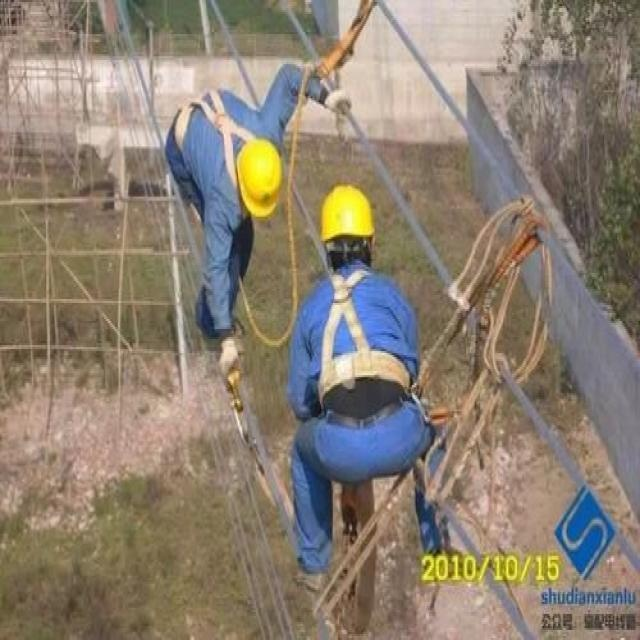Arnes_seguridad: (314, 263, 416, 415), (169, 82, 256, 191)
